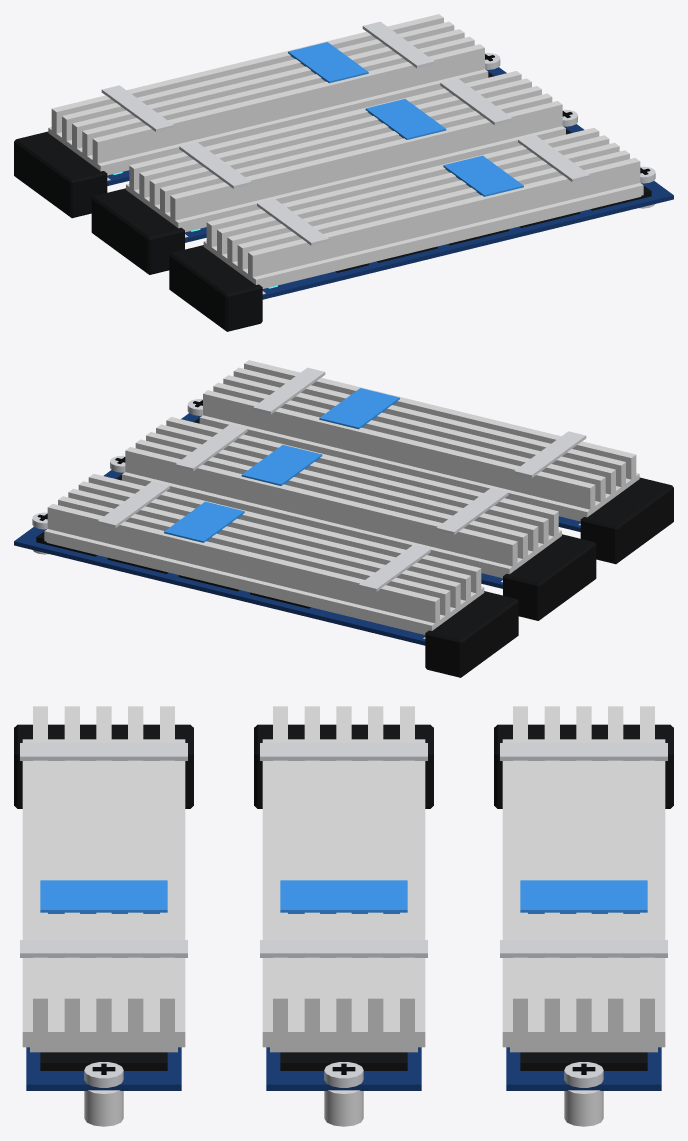
File: hwm_sto_nvme5_122tb.glb
3 views of the same model, one above another, from view 1: azimuth 30°, elevation 25°; view 2: azimuth 150°, elevation 25°; view 3: azimuth 270°, elevation 25° (orthographic). The views are drawn at different scales.
Visible parts, largest first — view 1: SSD_2, SSD_0, SSD_1, Slots; view 2: SSD_0, SSD_2, SSD_1, Slots; view 3: SSD_0, SSD_1, SSD_2, Slots, Screw_0, Screw_1, Screw_2.
Part boxes in pixels (x1,y1,x2,y2): SSD_2: [203, 128, 673, 299]; SSD_0: [48, 14, 506, 185]; SSD_1: [126, 71, 584, 242]; Slots: [14, 67, 654, 331]; SSD_0: [14, 474, 484, 645]; SSD_2: [181, 360, 639, 531]; SSD_1: [103, 417, 561, 588]; Slots: [33, 413, 673, 677]; SSD_0: [500, 706, 667, 1090]; SSD_1: [260, 706, 427, 1090]; SSD_2: [20, 706, 187, 1090]; Slots: [14, 724, 673, 1126]; Screw_0: [564, 1062, 603, 1087]; Screw_1: [324, 1062, 363, 1087]; Screw_2: [84, 1062, 123, 1087].
Bounding box in the file's own units: 0.1155 × 0.0164 × 0.0935.
